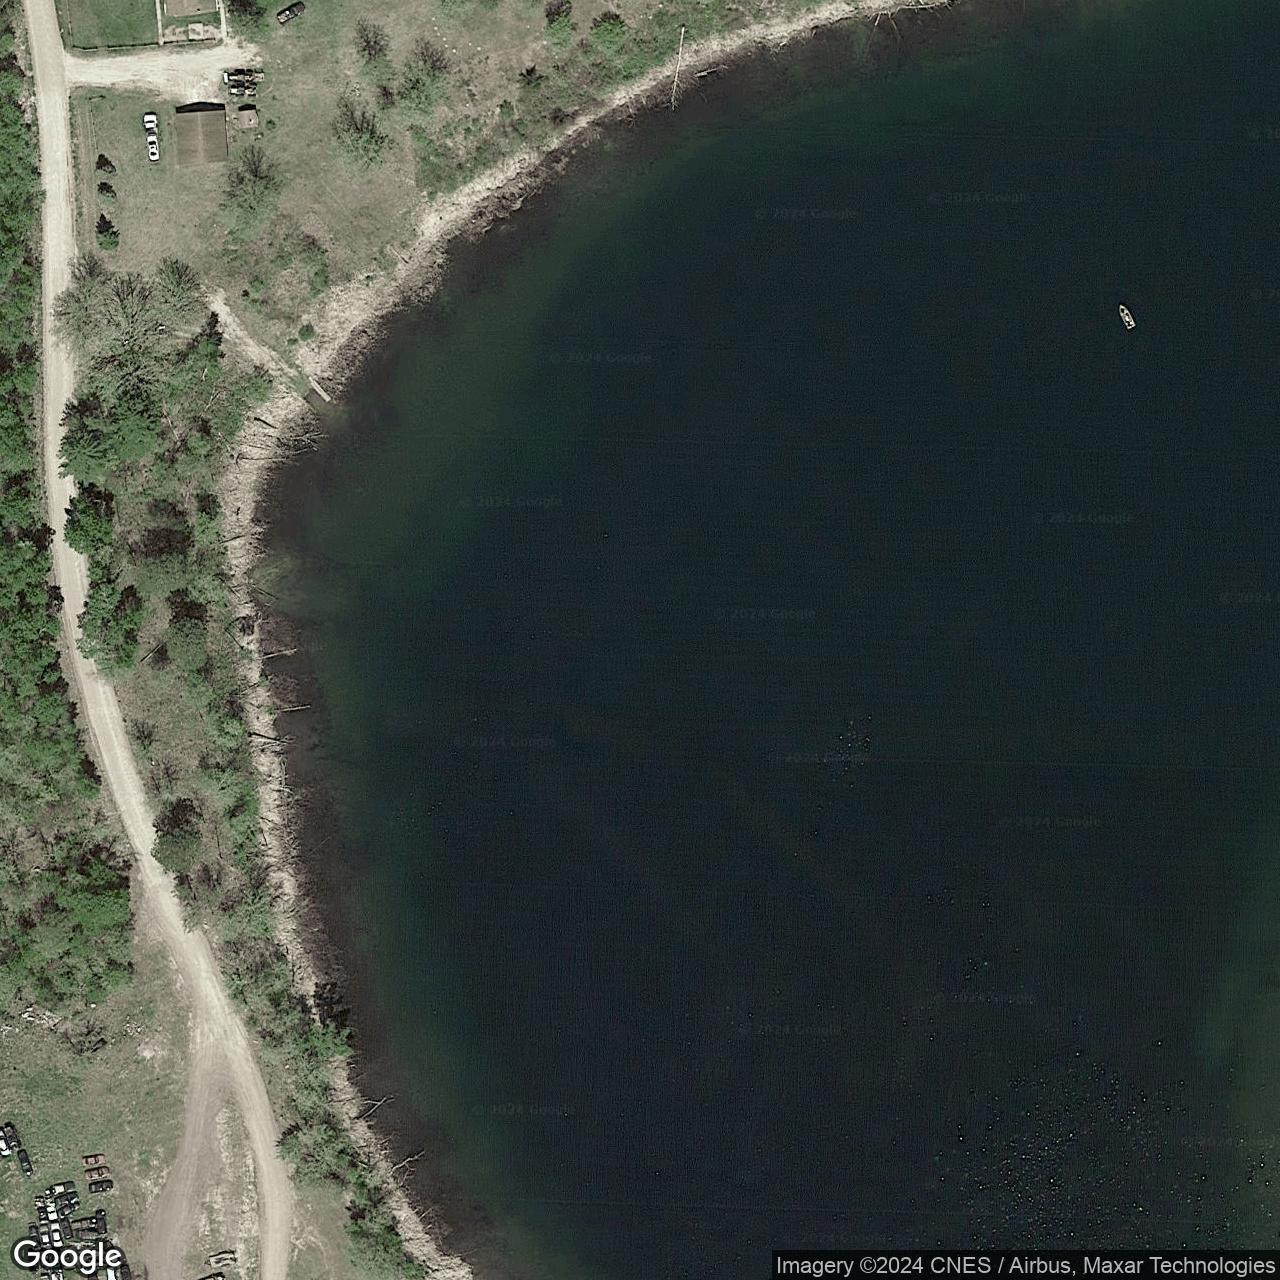Garage: (175, 107, 230, 168)
House: (164, 0, 219, 19)
Propane: (222, 70, 229, 86)
